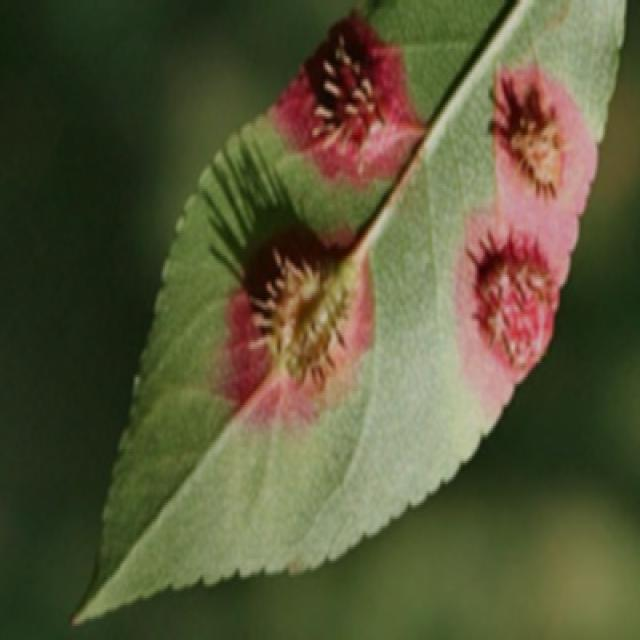Gymnosporangium_Rusts: (69, 0, 624, 624)
